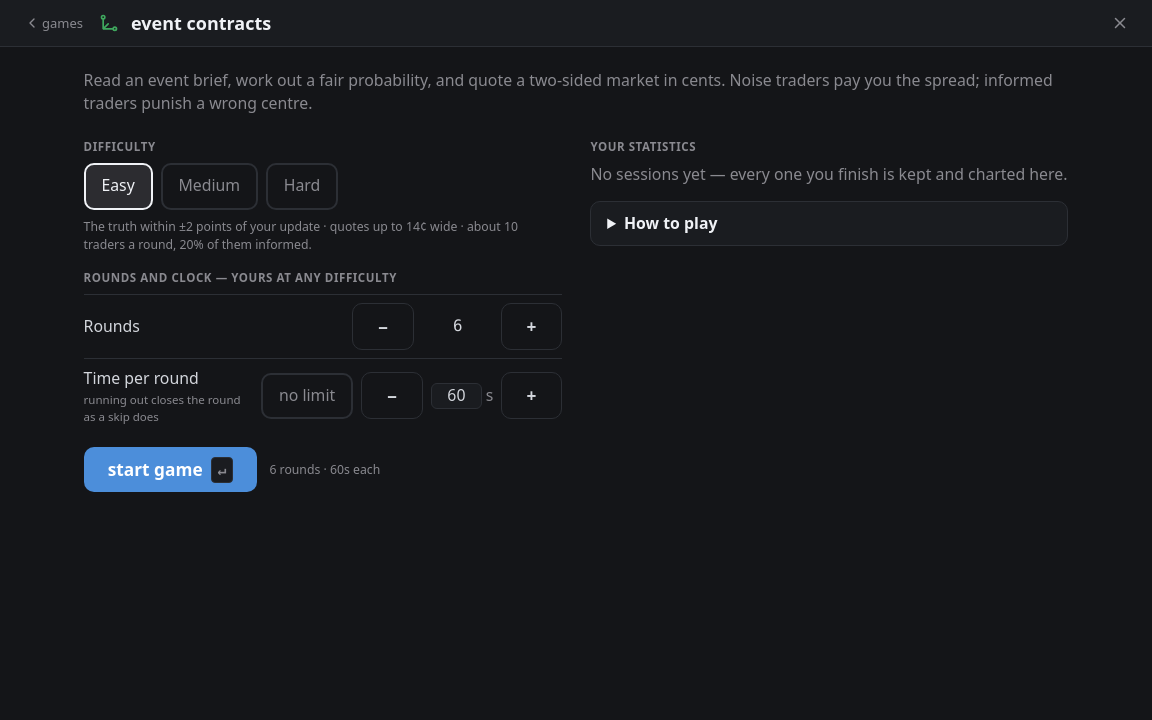
it: an Event Contracts game, page by page › a difficulty sets rounds and clock; changing them keeps it
Click the button "Hard" at (302, 186), box [266, 163, 338, 210]
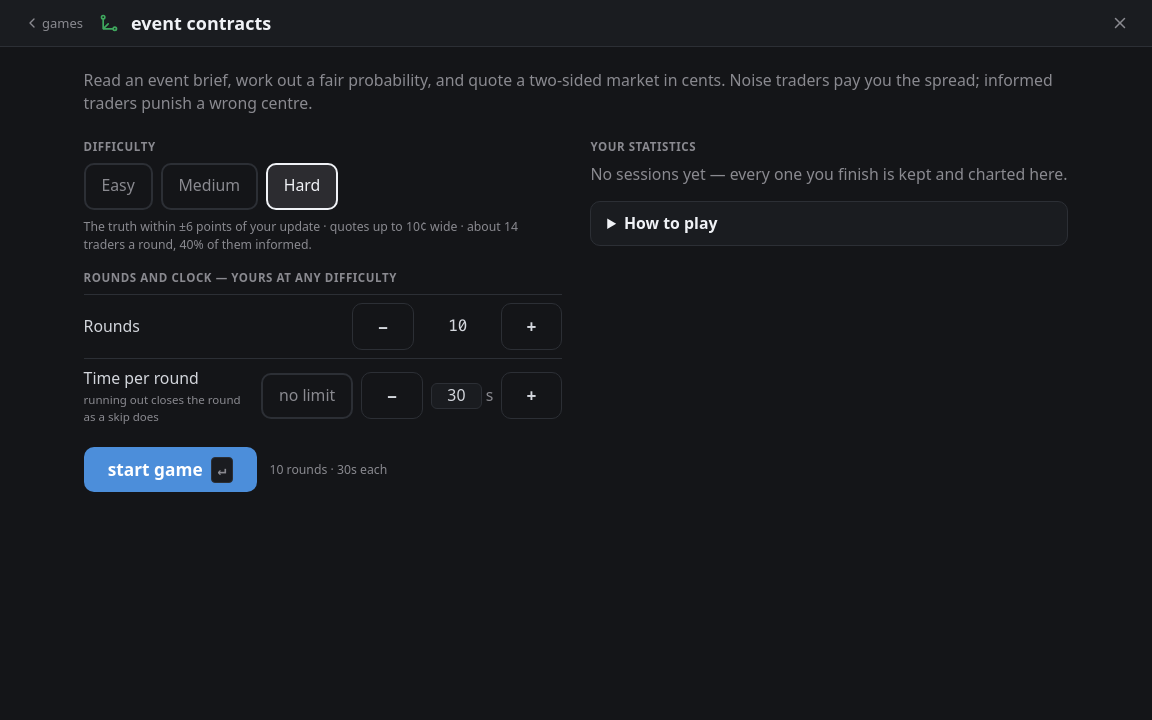
Expected: the text named "Rounds" reads "10", [448, 316, 467, 336]
Expected: the field named "Time per round, seconds" holds "30", [431, 383, 482, 409]
Click the button "no limit" at (307, 396), box [261, 372, 353, 419]
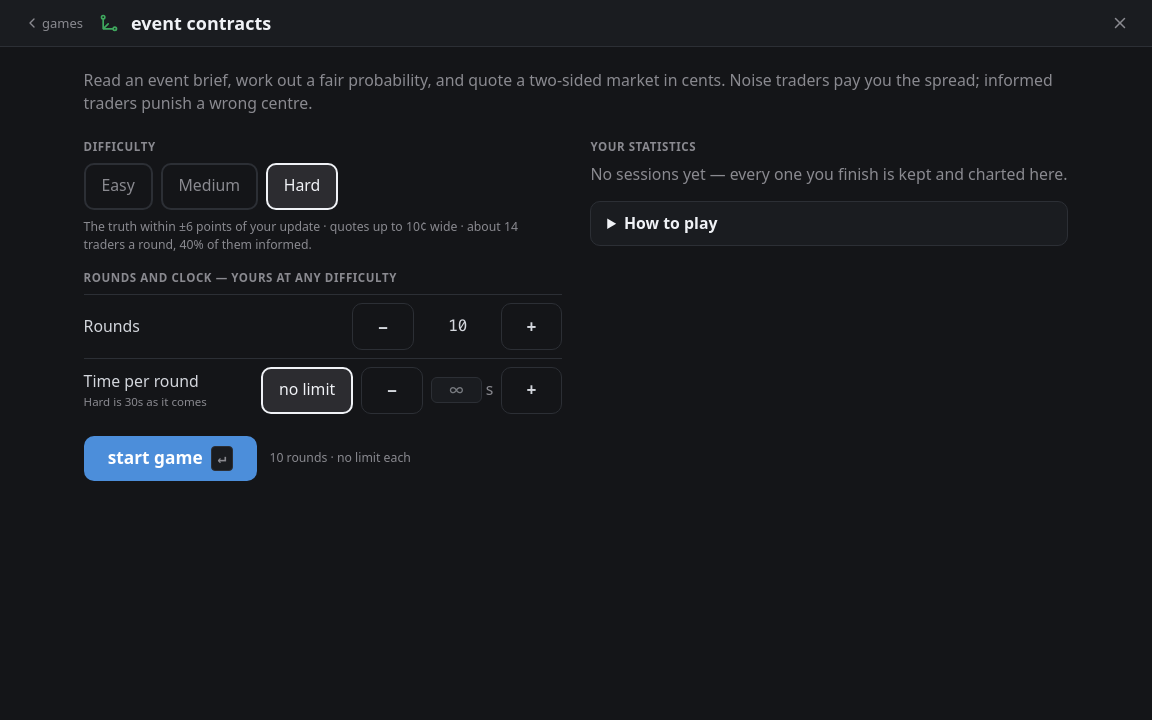
Expected: the button "Hard" is pressed, [266, 163, 338, 210]
Click the button "start game ↵" at (170, 458), box [84, 436, 257, 481]
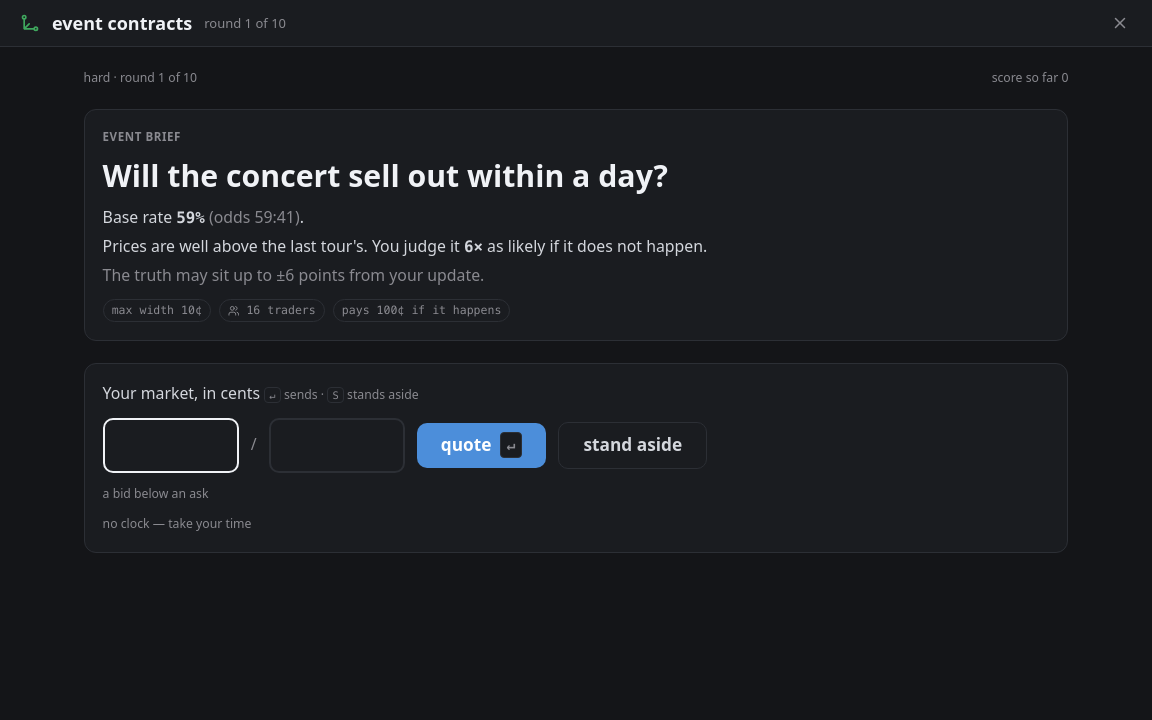
Expected: the text "no clock — take your time" is shown, [103, 515, 251, 532]
Expected: the text "The truth may sit up to ±6 points from your update." is shown, [103, 264, 484, 286]
